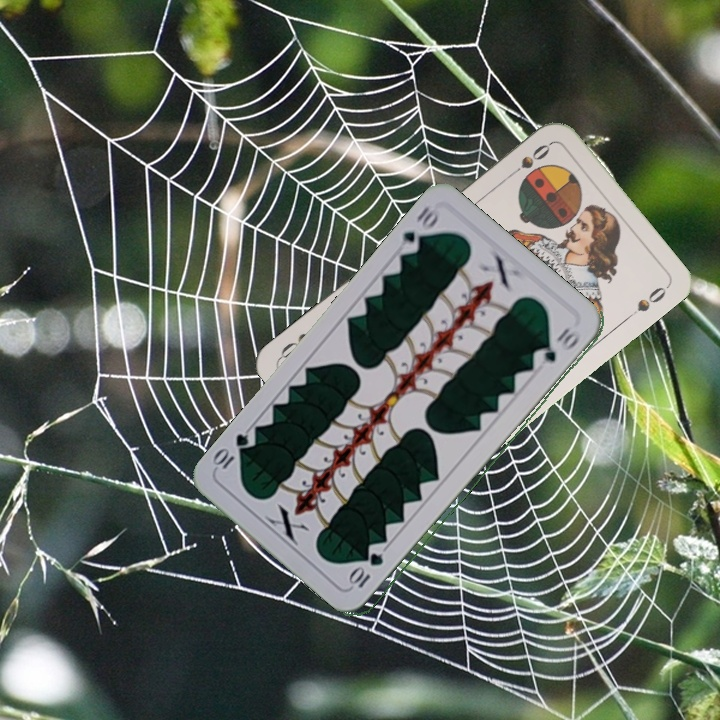G10: (395, 202, 441, 258), (348, 549, 386, 591)
SO: (503, 139, 553, 181)
